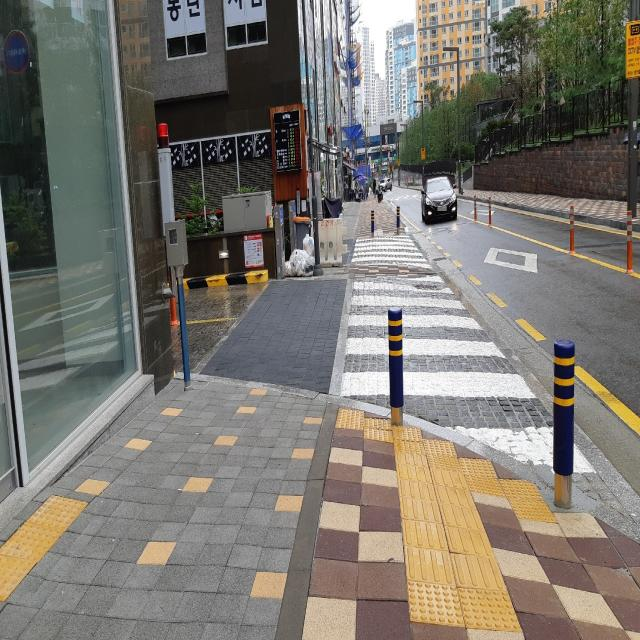횡단보도: (340, 236, 596, 474)
